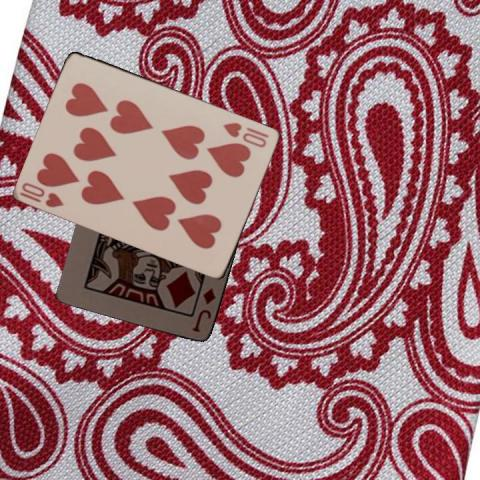10h: (221, 119, 270, 149), (17, 179, 65, 209)
Jd: (189, 285, 218, 334)
